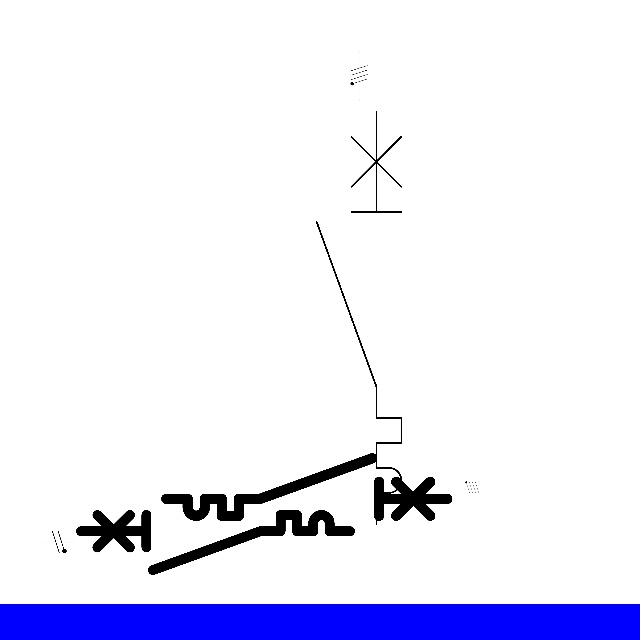interruptor_termomagnetico: (306, 101, 412, 535), (159, 451, 455, 523), (74, 508, 357, 577)
